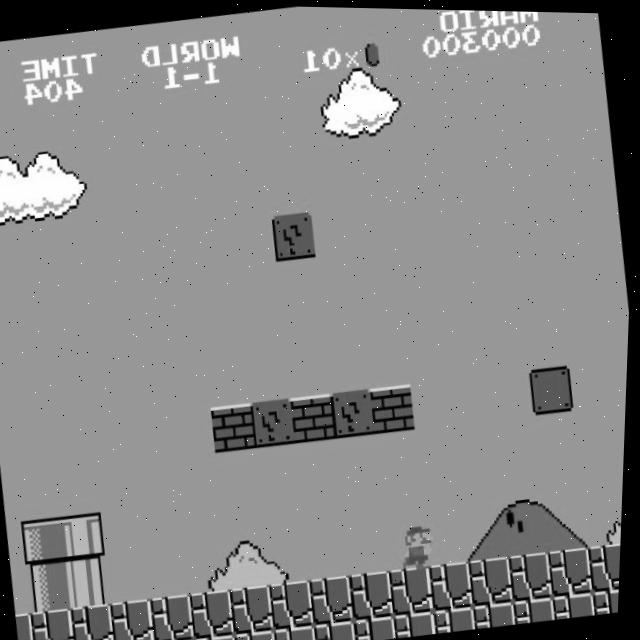1- brick_block: (371, 381, 420, 433), (292, 391, 340, 443), (212, 401, 260, 453)
11- little_mario: (396, 516, 447, 572)
13- mystery_block: (331, 386, 380, 438), (252, 396, 300, 448), (272, 210, 320, 261)
14- pipe: (28, 561, 77, 613), (68, 556, 116, 608)
15- pipe_head: (63, 511, 112, 563), (23, 516, 72, 568)
17- undestructible_block: (550, 543, 599, 595), (391, 563, 440, 615), (312, 573, 361, 625), (232, 582, 281, 634), (511, 548, 559, 600), (431, 558, 479, 610), (352, 568, 400, 620), (193, 587, 241, 639), (471, 554, 519, 605), (272, 578, 320, 629), (152, 592, 201, 640), (112, 597, 161, 640), (73, 602, 122, 640), (590, 539, 625, 590), (33, 607, 81, 640), (556, 589, 601, 618), (516, 594, 561, 623), (437, 603, 482, 632), (397, 608, 442, 637), (477, 599, 521, 627), (357, 613, 402, 640), (317, 618, 362, 640), (277, 623, 322, 640), (596, 584, 623, 612), (19, 612, 41, 640), (238, 627, 283, 640), (198, 633, 243, 640), (158, 637, 203, 640)
3- empty_block: (530, 362, 579, 414)
